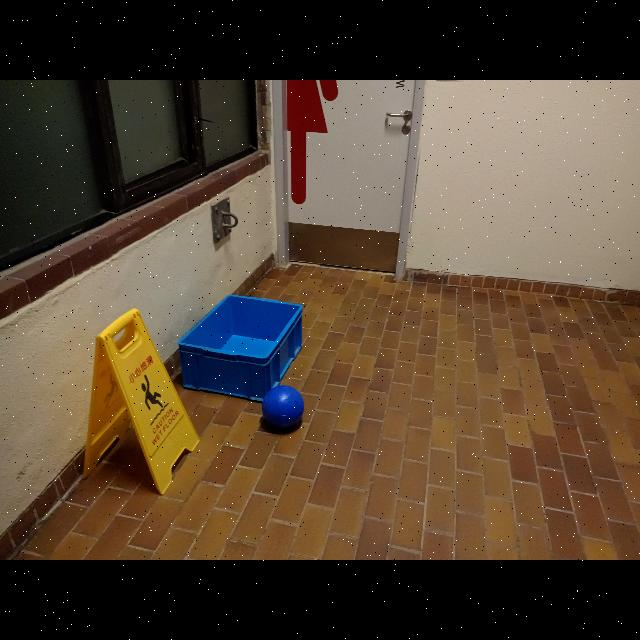B: (256, 381, 310, 434)
